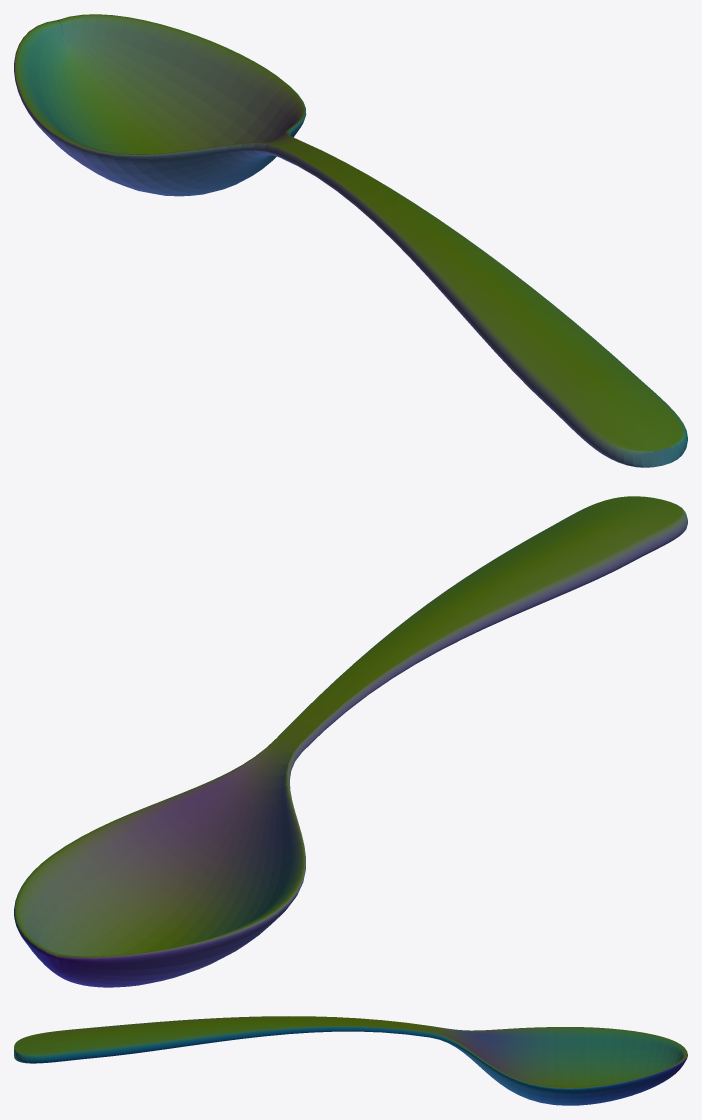
File: Spoon.fbx
3 renders of one model, top to bottom at view 1: azimuth 30°, elevation 25°; view 2: azimuth 150°, elevation 25°; view 3: azimuth 270°, elevation 25°, orthographic. The views are drawn at different scales.
Parts seen in each view (by area): view 1: Spoon; view 2: Spoon; view 3: Spoon.
Part boxes in pixels (bbox=[...]): Spoon: bbox=[14, 14, 687, 467]; Spoon: bbox=[14, 496, 687, 987]; Spoon: bbox=[14, 1016, 687, 1105].
Bounding box in the file's own units: 26.4 × 15.5 × 121.
